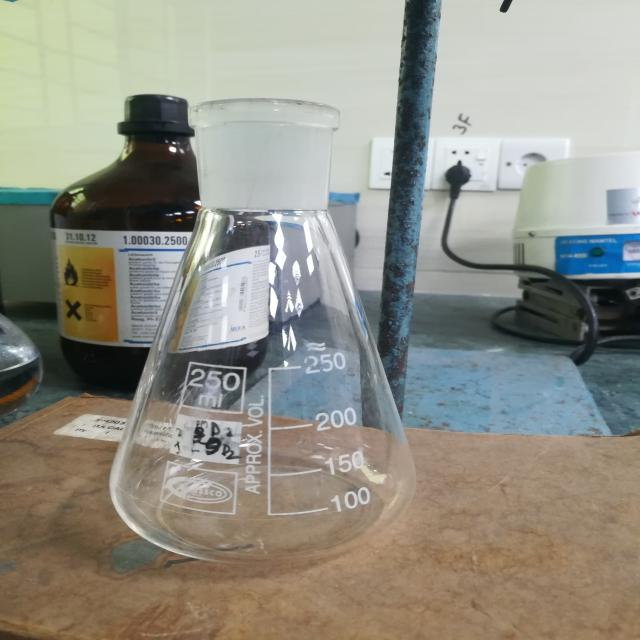Conical_Flask: (67, 52, 457, 614)
